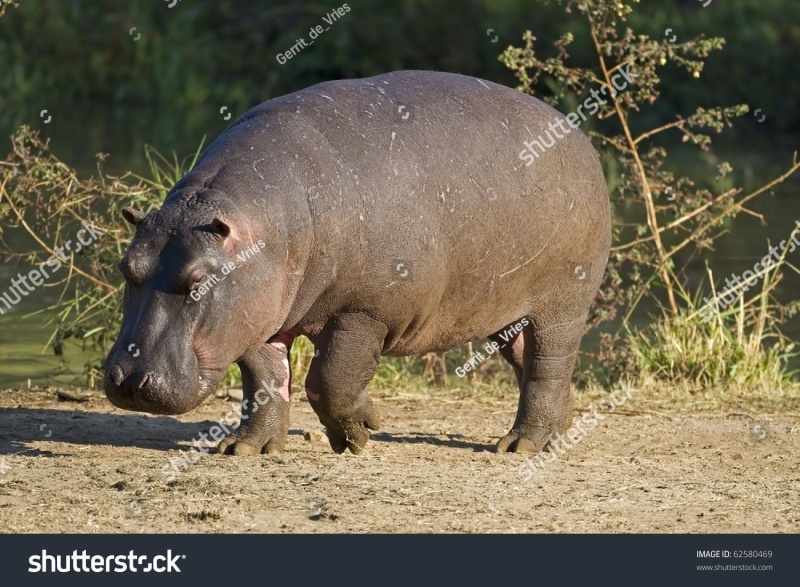hipopotamo: (109, 60, 610, 459)
